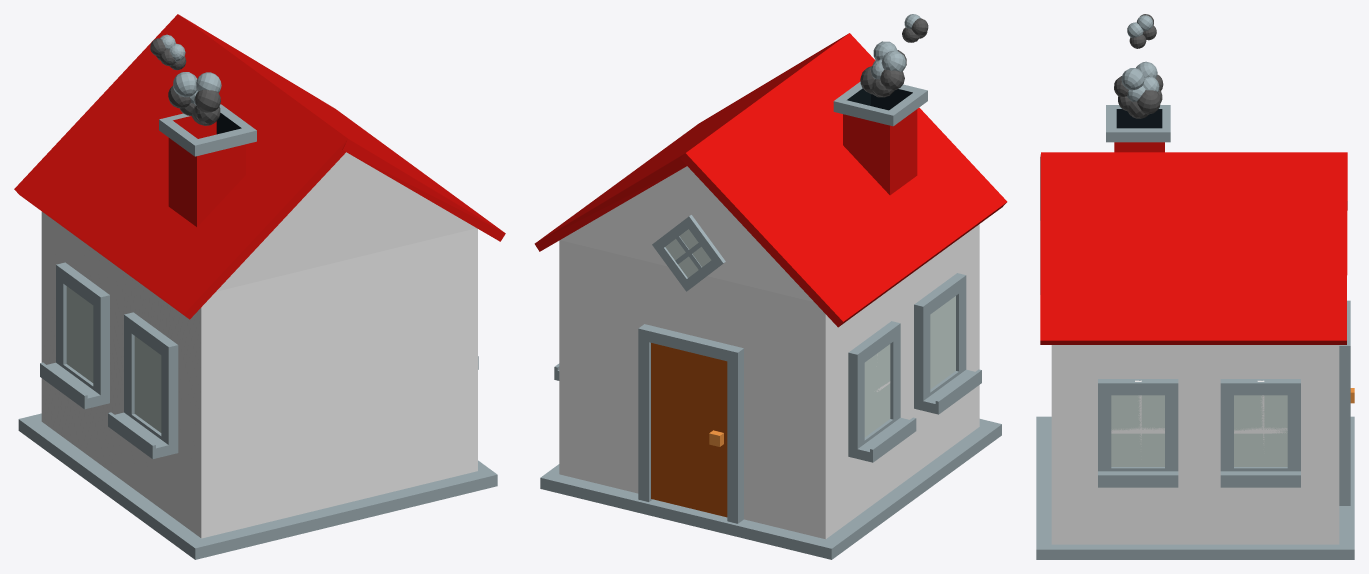
File: house_a.obj
3 renders of one model, left to right at view 1: azimuth 30°, elevation 25°; view 2: azimuth 150°, elevation 25°; view 3: azimuth 270°, elevation 25°, orthographic. The views are drawn at different scales.
Parts seen in each view (by area): view 1: Node-Mesh, Node-Mesh_1, Node-Mesh_4, Node-Mesh_7, Node-Mesh_6; view 2: Node-Mesh, Node-Mesh_1, Node-Mesh_4, Node-Mesh_2, Node-Mesh_7, Node-Mesh_6, Node-Mesh_5; view 3: Node-Mesh_1, Node-Mesh, Node-Mesh_4, Node-Mesh_7, Node-Mesh_6, Node-Mesh_5.
Part boxes in pixels (x1,y1,x2,y2): Node-Mesh: [41, 152, 477, 538]; Node-Mesh_1: [14, 14, 505, 319]; Node-Mesh_4: [18, 34, 497, 559]; Node-Mesh_7: [66, 286, 161, 432]; Node-Mesh_6: [150, 38, 220, 125]; Node-Mesh: [559, 166, 979, 539]; Node-Mesh_1: [534, 33, 1007, 327]; Node-Mesh_4: [540, 14, 1001, 559]; Node-Mesh_2: [651, 343, 727, 517]; Node-Mesh_7: [665, 229, 955, 437]; Node-Mesh_6: [860, 18, 928, 97]; Node-Mesh_5: [847, 88, 912, 110]; Node-Mesh_1: [1040, 142, 1347, 344]; Node-Mesh: [1051, 345, 1339, 544]; Node-Mesh_4: [1036, 15, 1354, 559]; Node-Mesh_7: [1111, 395, 1287, 466]; Node-Mesh_6: [1114, 14, 1163, 118]; Node-Mesh_5: [1116, 109, 1162, 128].
Bounding box in the file's own units: 0.89 × 1.22 × 0.83.
